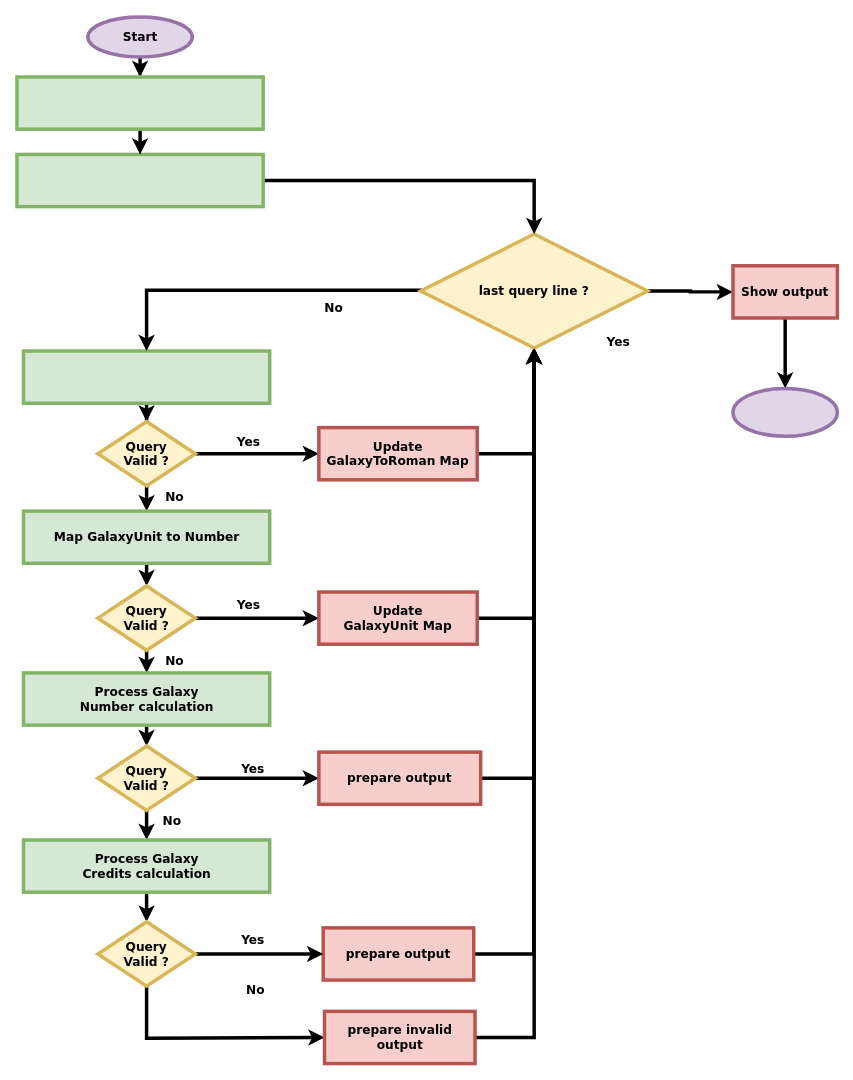
Image size: 853x1080. Some labels were removed from this diagram. The shapes that lost their labels are listed below. From the top down, each one's centre as x and y in pixels, then its label:
At (x=139, y=102): "Receive multiline input".
At (x=139, y=180): "process multiline query".
At (x=146, y=377): "Map GalaxyNumber to RomanNumber".
At (x=785, y=412): "End".
